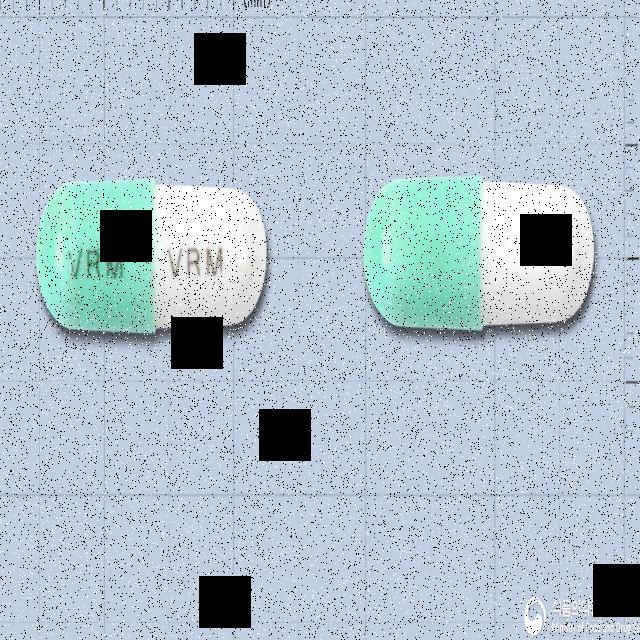Viramid Cap: (35, 175, 268, 337)
